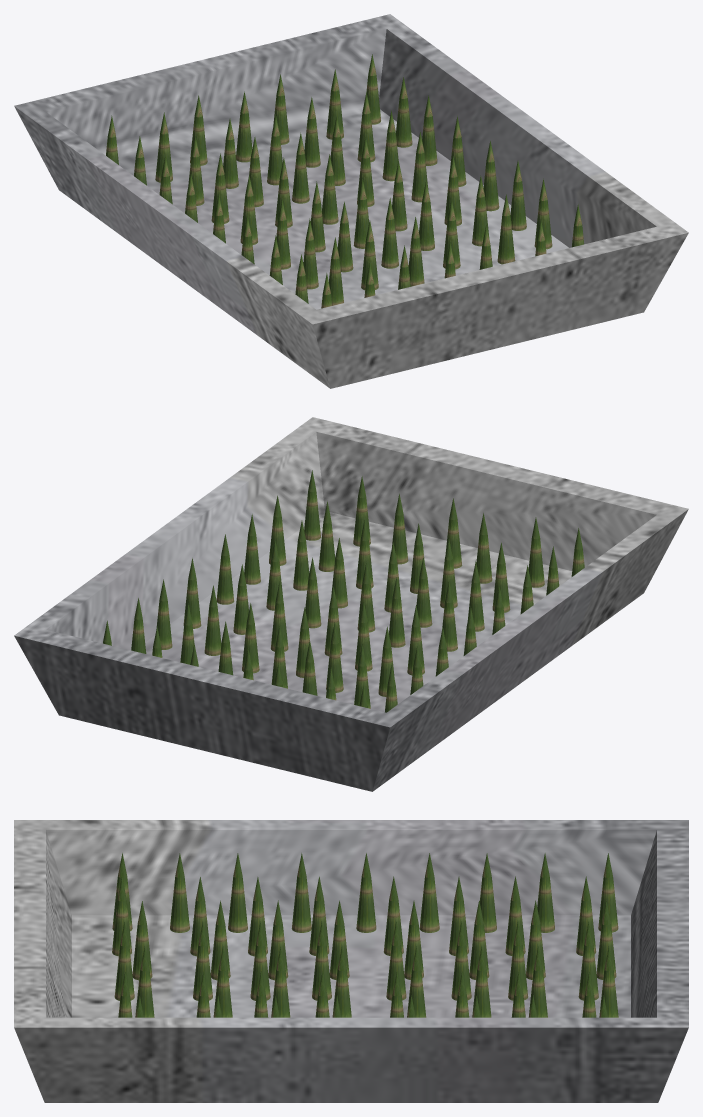
The model's file is SpikePit_1_1.fbx.
The picture shows the model from 3 angles, top to bottom: view 1: azimuth 30°, elevation 25°; view 2: azimuth 150°, elevation 25°; view 3: azimuth 270°, elevation 25°; orthographic projection. The views are drawn at different scales.
Visible parts, largest first — view 1: Cube, Cylinder.017, Cylinder.038, Cylinder.013, Cylinder.024, Cylinder.003, Cylinder.041, Cylinder.047, Cylinder.011, Cylinder.039, Cylinder.019, Cylinder.009 (+31 smaller); view 2: Cube, Cylinder.034, Cylinder.055, Cylinder.041, Cylinder.019, Cylinder.047, Cylinder.030, Cylinder.040, Cylinder.050, Cylinder.032, Cylinder.051, Cylinder.037 (+25 smaller); view 3: Cube, Cylinder.028, Cylinder.042, Cylinder.035, Cylinder.021, Cylinder.049, Cylinder.007, Cylinder.014, Cylinder.017, Cylinder.024, Cylinder.052, Cylinder.038 (+30 smaller).
Boxes of the visible parts, x1=… form: Cube: x1=14, y1=14, x2=688, y2=388; Cylinder.017: x1=292, y1=132, x2=309, y2=203; Cylinder.038: x1=381, y1=198, x2=398, y2=268; Cylinder.013: x1=396, y1=77, x2=412, y2=147; Cylinder.024: x1=322, y1=154, x2=338, y2=224; Cylinder.003: x1=236, y1=91, x2=252, y2=162; Cylinder.041: x1=510, y1=160, x2=526, y2=230; Cylinder.047: x1=497, y1=194, x2=515, y2=264; Cylinder.011: x1=304, y1=97, x2=320, y2=167; Cylinder.039: x1=419, y1=180, x2=434, y2=250; Cylinder.019: x1=382, y1=110, x2=398, y2=181; Cylinder.009: x1=223, y1=118, x2=238, y2=188; Cube: x1=14, y1=417, x2=688, y2=791; Cylinder.034: x1=216, y1=534, x2=234, y2=604; Cylinder.055: x1=304, y1=470, x2=320, y2=540; Cylinder.041: x1=244, y1=514, x2=260, y2=584; Cylinder.019: x1=204, y1=585, x2=221, y2=655; Cylinder.047: x1=318, y1=501, x2=335, y2=571; Cylinder.030: x1=389, y1=577, x2=405, y2=647; Cylinder.040: x1=293, y1=520, x2=309, y2=590; Cylinder.050: x1=528, y1=517, x2=544, y2=587; Cylinder.032: x1=305, y1=557, x2=321, y2=628; Cylinder.051: x1=476, y1=513, x2=492, y2=583; Cylinder.037: x1=416, y1=557, x2=432, y2=627; Cube: x1=14, y1=820, x2=688, y2=1102; Cylinder.028: x1=356, y1=853, x2=376, y2=932; Cylinder.042: x1=228, y1=853, x2=247, y2=932; Cylinder.035: x1=291, y1=853, x2=311, y2=932; Cylinder.021: x1=419, y1=853, x2=439, y2=932; Cylinder.049: x1=170, y1=853, x2=189, y2=932; Cylinder.007: x1=537, y1=853, x2=554, y2=932; Cylinder.014: x1=479, y1=853, x2=496, y2=932; Cylinder.017: x1=451, y1=921, x2=471, y2=1000; Cylinder.024: x1=386, y1=921, x2=406, y2=1000; Cylinder.052: x1=114, y1=922, x2=134, y2=1000; Cylinder.038: x1=250, y1=921, x2=270, y2=1000.
Bounding box in the file's own units: 480 × 102 × 660.
Materials: 1 (1 with a texture image).
